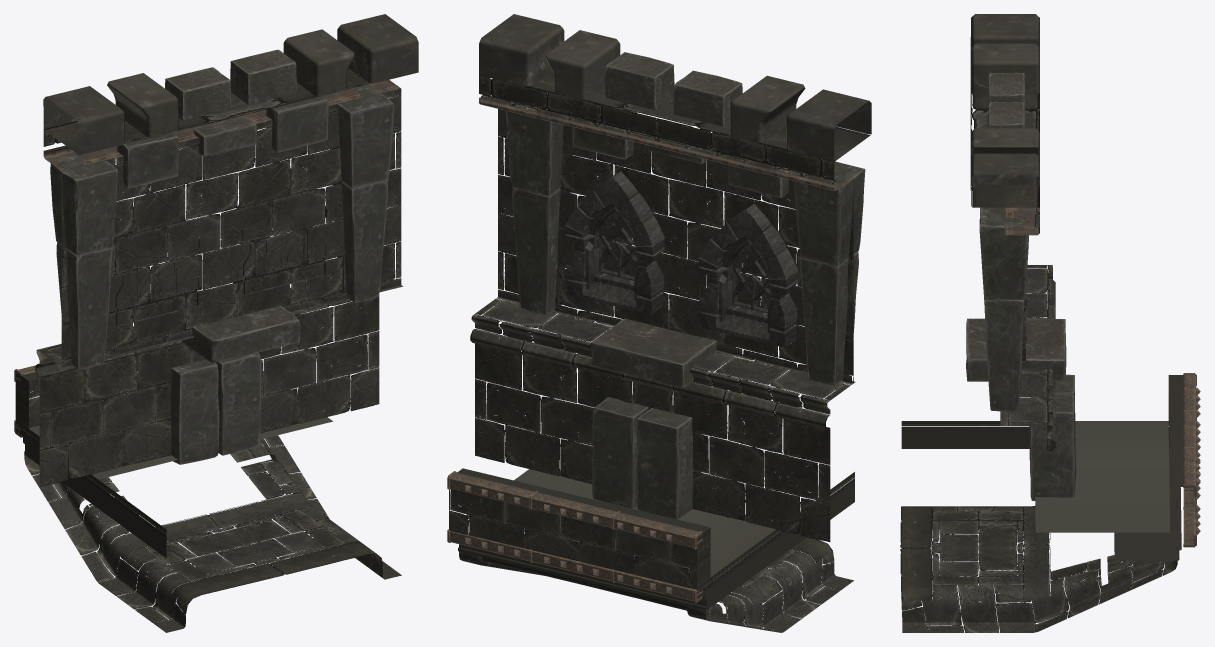
3 renders of one model, left to right at view 1: azimuth 30°, elevation 25°; view 2: azimuth 150°, elevation 25°; view 3: azimuth 270°, elevation 25°, orthographic. The views are drawn at different scales.
Visible parts, largest first — view 1: SM_DR_Gateway_Center_LOD0; view 2: SM_DR_Gateway_Center_LOD0; view 3: SM_DR_Gateway_Center_LOD0.
Part boxes in pixels (bbox=[...]): SM_DR_Gateway_Center_LOD0: bbox=[14, 14, 418, 632]; SM_DR_Gateway_Center_LOD0: bbox=[447, 14, 871, 632]; SM_DR_Gateway_Center_LOD0: bbox=[900, 14, 1200, 632].
Bounding box in the file's own units: 12.95 × 18.17 × 10.23.
5 materials, 5 textured.
